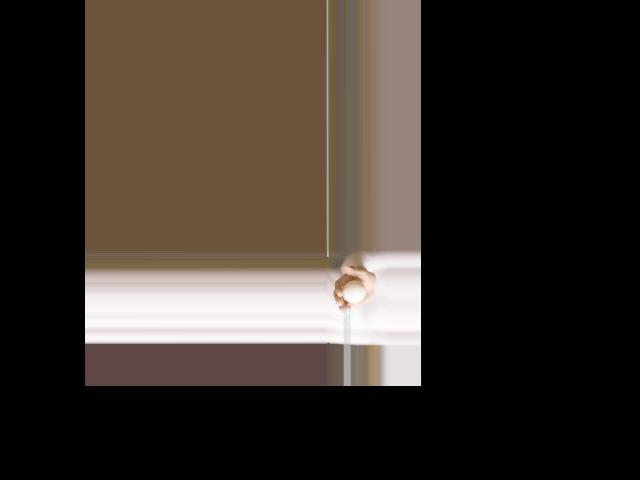egg: (341, 280, 365, 303)
